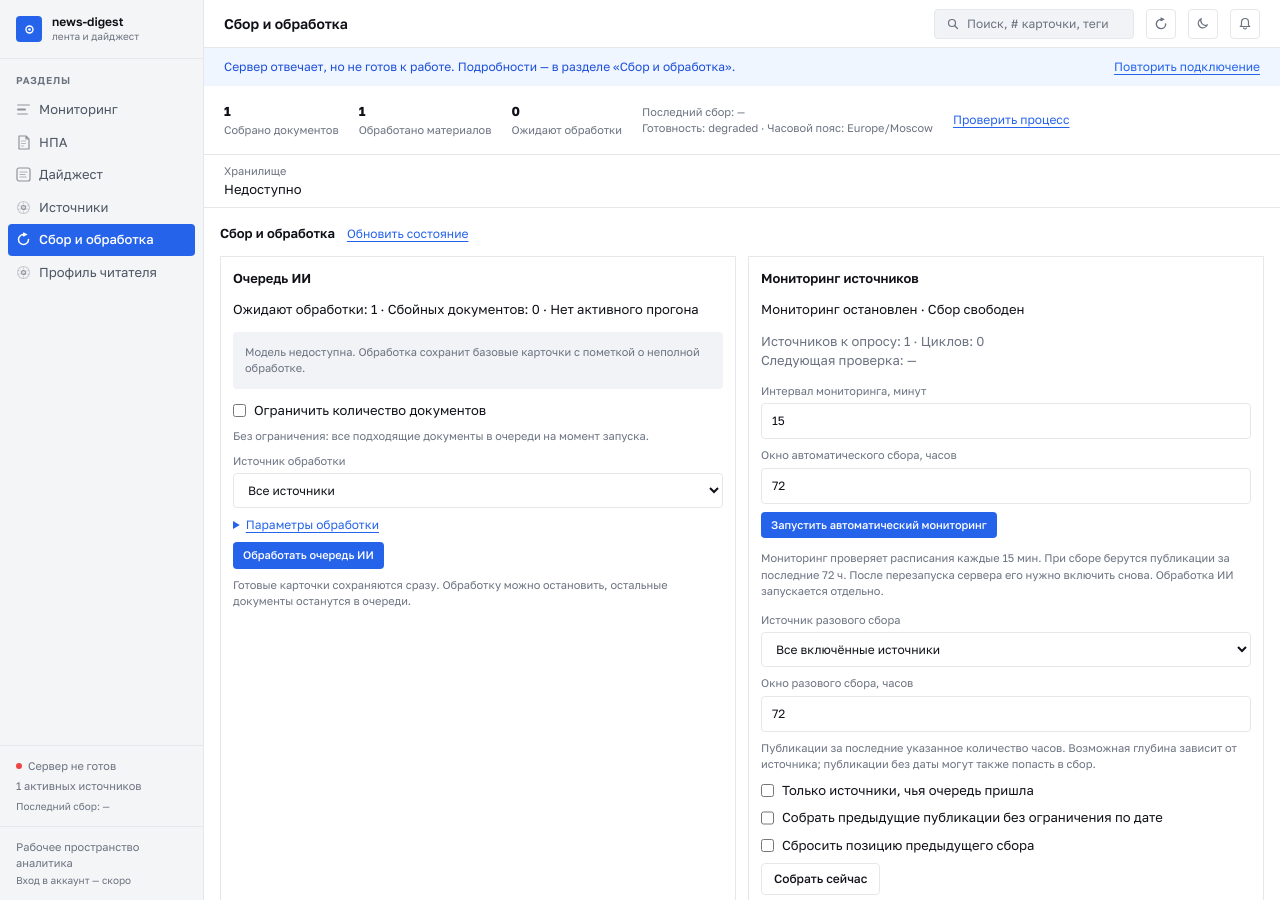
live dashboard and navigation › keeps degraded readiness diagnostics and recovers after retry
Click the button "Повторить подключение": x=1187, y=67 [1114,58,1260,76]
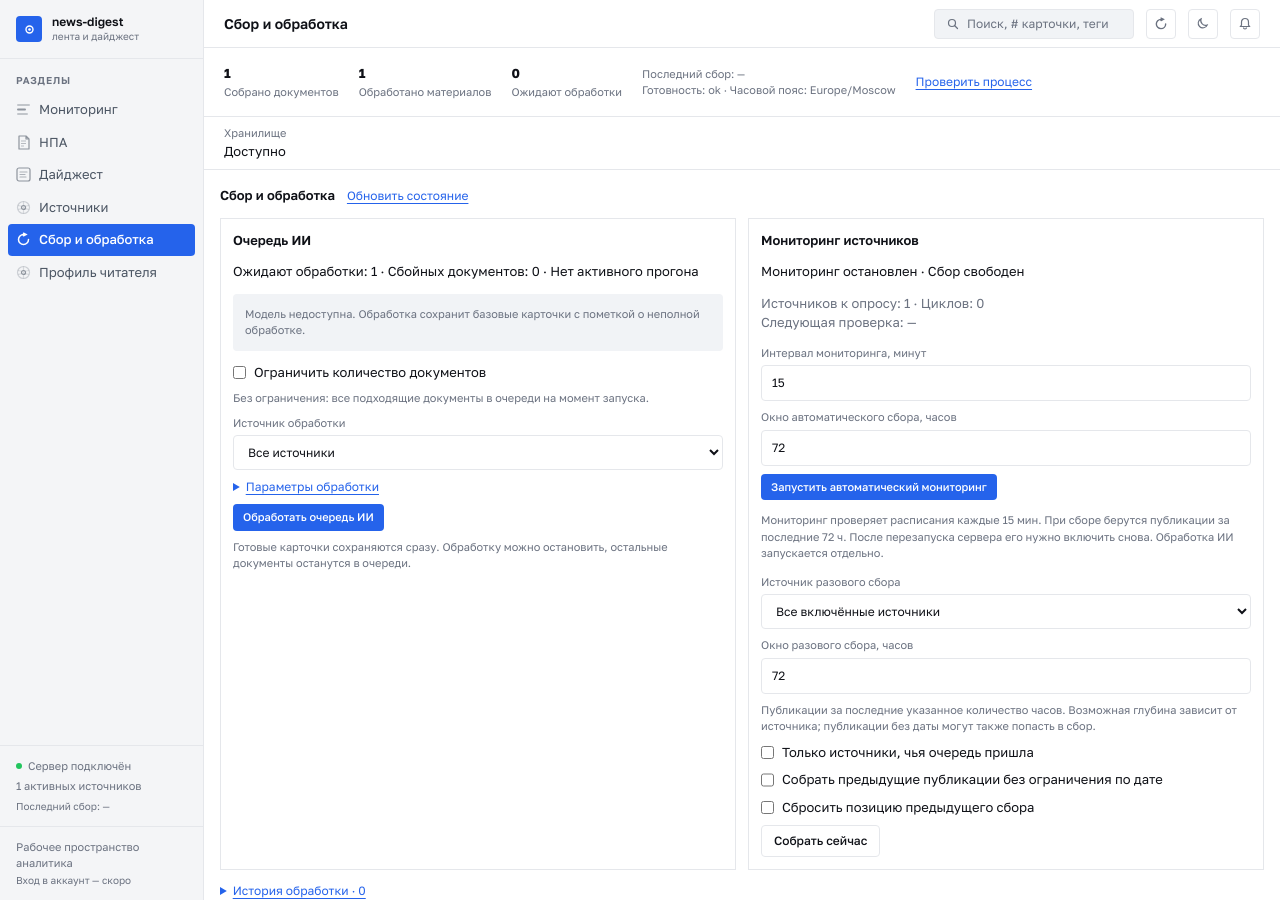
Check: the text "Сервер подключён" is shown, box [16,758,131,772]
Check: the text "Сервер не готов" is gone
